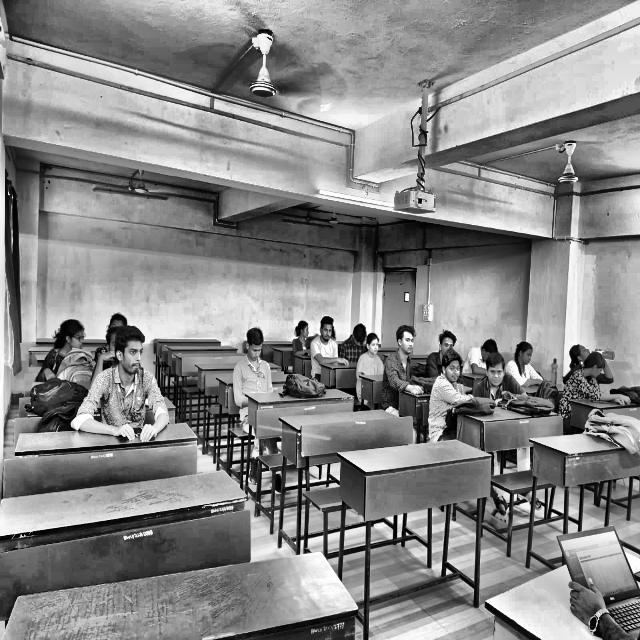Focus: (110, 326, 152, 384), (440, 349, 465, 394), (397, 322, 417, 361), (514, 335, 534, 373), (364, 332, 383, 362)
Not Focus: (52, 317, 86, 357), (244, 328, 270, 368), (479, 353, 505, 389), (584, 353, 608, 389), (316, 314, 336, 347), (435, 329, 459, 356), (350, 320, 365, 351), (295, 318, 311, 340)
